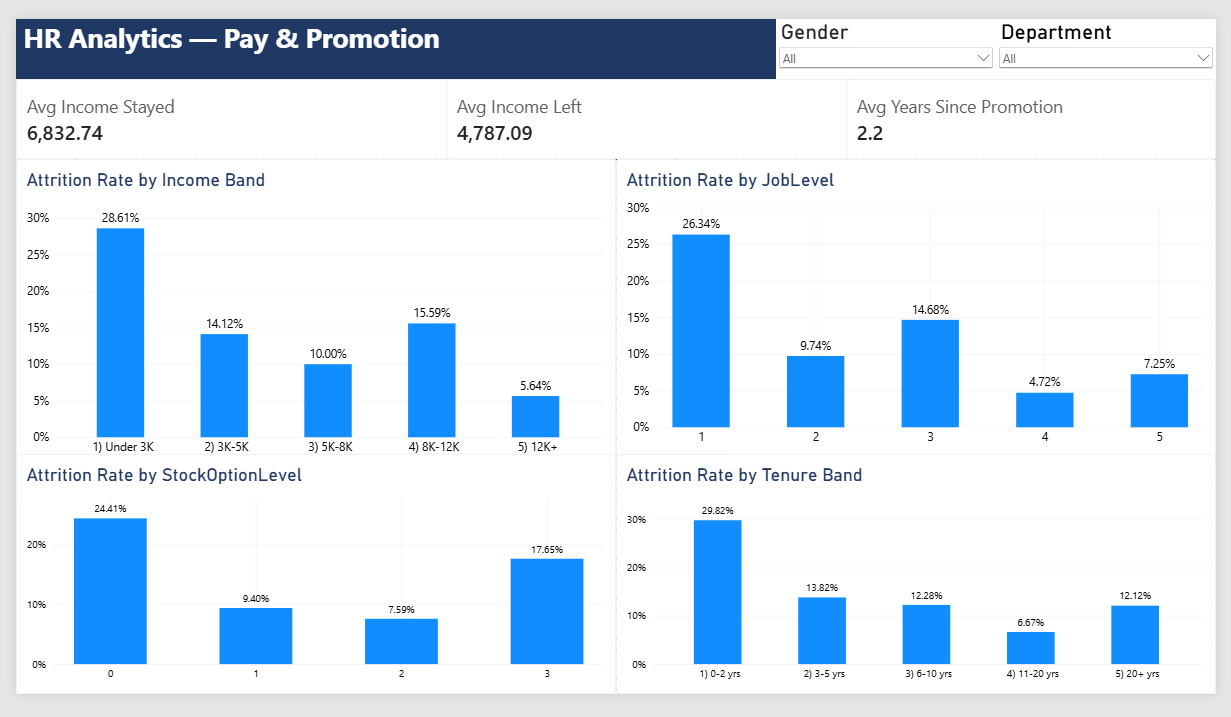

This screenshot's page, from the dashboard's own definition file:
{"tool":"powerbi","page":{"name":"Pay & Promotion","canvas":[1920,1080],"ordinal":3},"visuals":[{"type":"textbox","box":[0,0,1920,96],"z":0},{"type":"slicer","fields":{"Values":["HR_Data.Gender"]},"box":[1216,0,352,112],"z":1000},{"type":"slicer","fields":{"Values":["HR_Data.Department"]},"box":[1568,0,352,112],"z":2000},{"type":"cardVisual","fields":{"Data":["_Measures.Avg Income Stayed"]},"box":[0,96,784,128],"z":3000},{"type":"cardVisual","fields":{"Data":["_Measures.Avg Income Left"]},"box":[688,96,688,128],"z":4000},{"type":"cardVisual","fields":{"Data":["_Measures.Avg Years Since Promotion"]},"box":[1328,96,592,128],"z":5000},{"type":"clusteredColumnChart","title":"Attrition Rate by Income Band","fields":{"Category":["HR_Data.Income Band"],"Y":["_Measures.Attrition Rate"]},"box":[0,224,960,496],"z":6000},{"type":"clusteredColumnChart","title":"Attrition Rate by Job Level","fields":{"Category":["HR_Data.JobLevel"],"Y":["_Measures.Attrition Rate"]},"box":[960,224,960,480],"z":7000},{"type":"clusteredColumnChart","title":"Attrition Rate by Stock Option Level","fields":{"Category":["HR_Data.StockOptionLevel"],"Y":["_Measures.Attrition Rate"]},"box":[0,696,960,384],"z":8000},{"type":"clusteredColumnChart","title":"Attrition Rate by Tenure Band","fields":{"Category":["HR_Data.Tenure Band"],"Y":["_Measures.Attrition Rate"]},"box":[960,696,960,384],"z":9000}]}

Visuals, with their boxes on the page's 1920x1080 design canvas (x1, y1, x2, y2). These are canvas units, not pixel positions in the 1231x717 screenshot, which may show the page scaled, cropped or inside an application window:
textbox: BBox(0, 0, 1920, 96)
slicer - HR_Data.Gender: BBox(1216, 0, 1568, 112)
slicer - HR_Data.Department: BBox(1568, 0, 1920, 112)
cardVisual - _Measures.Avg Income Stayed: BBox(0, 96, 784, 224)
cardVisual - _Measures.Avg Income Left: BBox(688, 96, 1376, 224)
cardVisual - _Measures.Avg Years Since Promotion: BBox(1328, 96, 1920, 224)
"Attrition Rate by Income Band" clusteredColumnChart: BBox(0, 224, 960, 720)
"Attrition Rate by Job Level" clusteredColumnChart: BBox(960, 224, 1920, 704)
"Attrition Rate by Stock Option Level" clusteredColumnChart: BBox(0, 696, 960, 1080)
"Attrition Rate by Tenure Band" clusteredColumnChart: BBox(960, 696, 1920, 1080)
